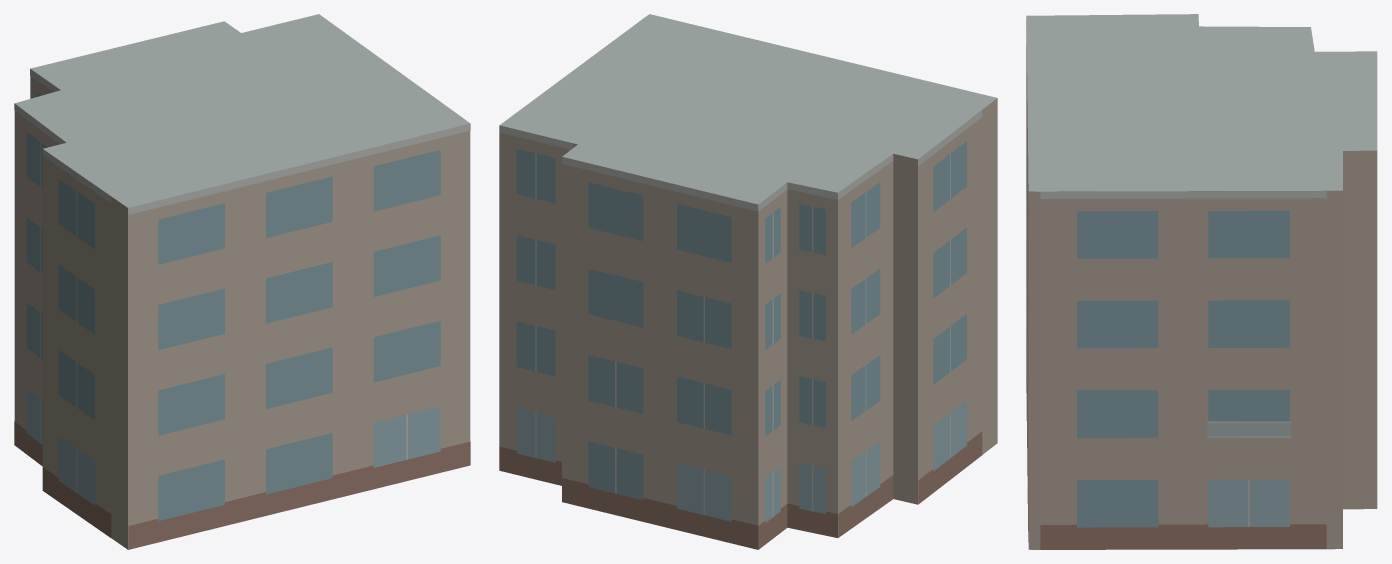
The model's file is survey-upis-32780136.glb.
The picture shows the model from 3 angles, left to right: view 1: azimuth 30°, elevation 25°; view 2: azimuth 150°, elevation 25°; view 3: azimuth 270°, elevation 25°; orthographic projection. The views are drawn at different scales.
Visible parts, largest first — view 1: survey-upis-32780136.tmp; view 2: survey-upis-32780136.tmp; view 3: survey-upis-32780136.tmp.
Boxes of the visible parts, x1,y1,x2,y2 form: survey-upis-32780136.tmp: [14, 14, 470, 549]; survey-upis-32780136.tmp: [499, 14, 997, 549]; survey-upis-32780136.tmp: [1026, 14, 1377, 549].
Bounding box in the file's own units: 12.65 × 11.9 × 10.58.
